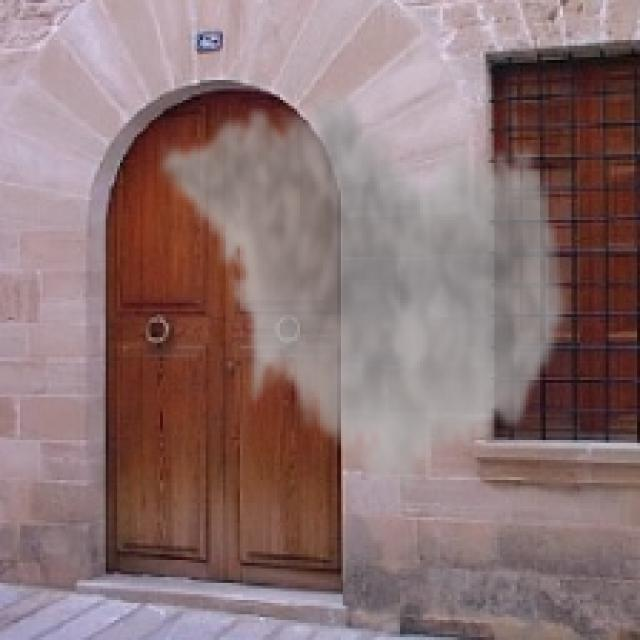Smoke: (154, 77, 572, 500)
